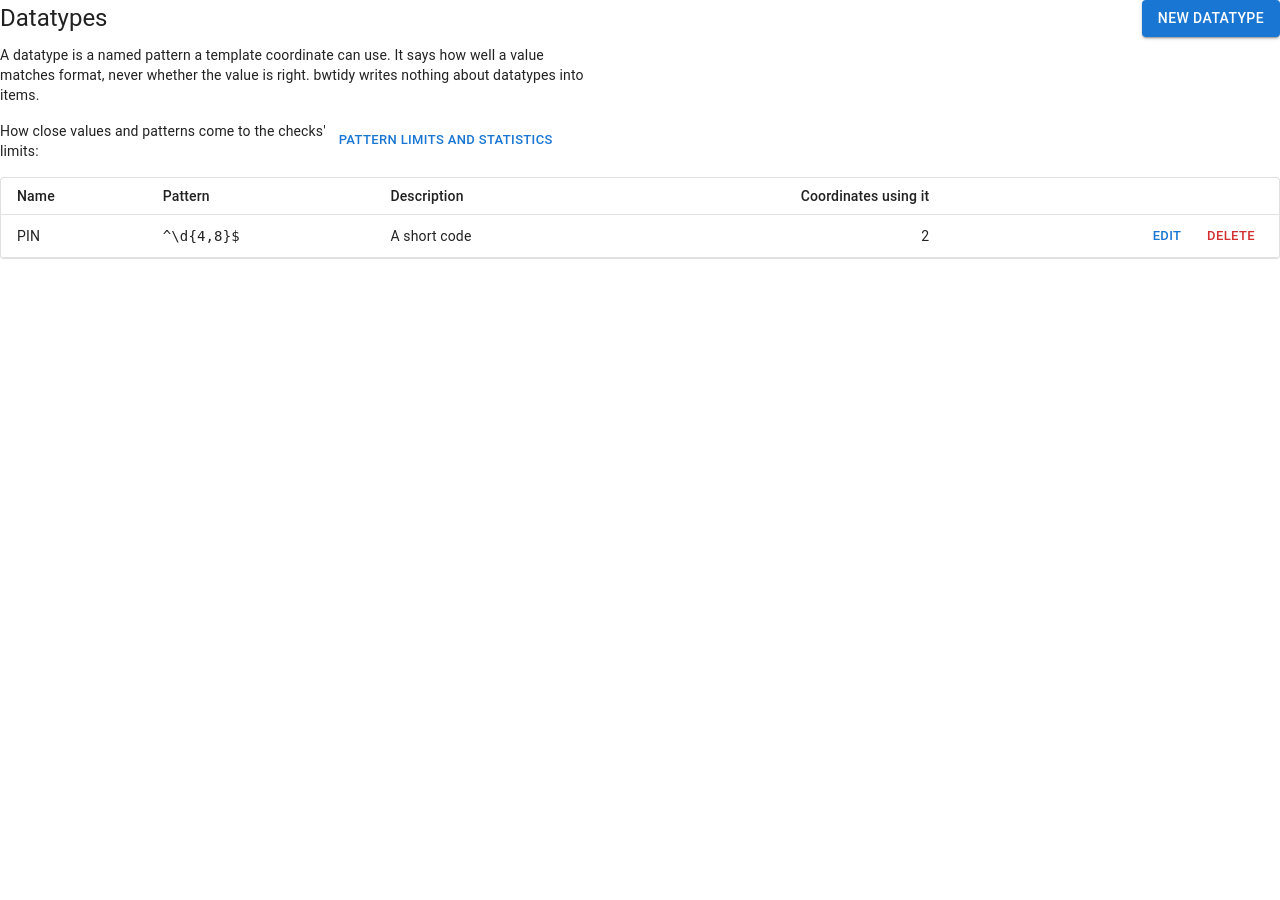
Test: a pattern stored as ^x$ opens as x with Whole value ticked
This screenshot has width=1280, height=900.
Click the button with aria-label "Edit PIN" at (1167, 236), box top-left (1135, 221), bottom-right (1199, 251)
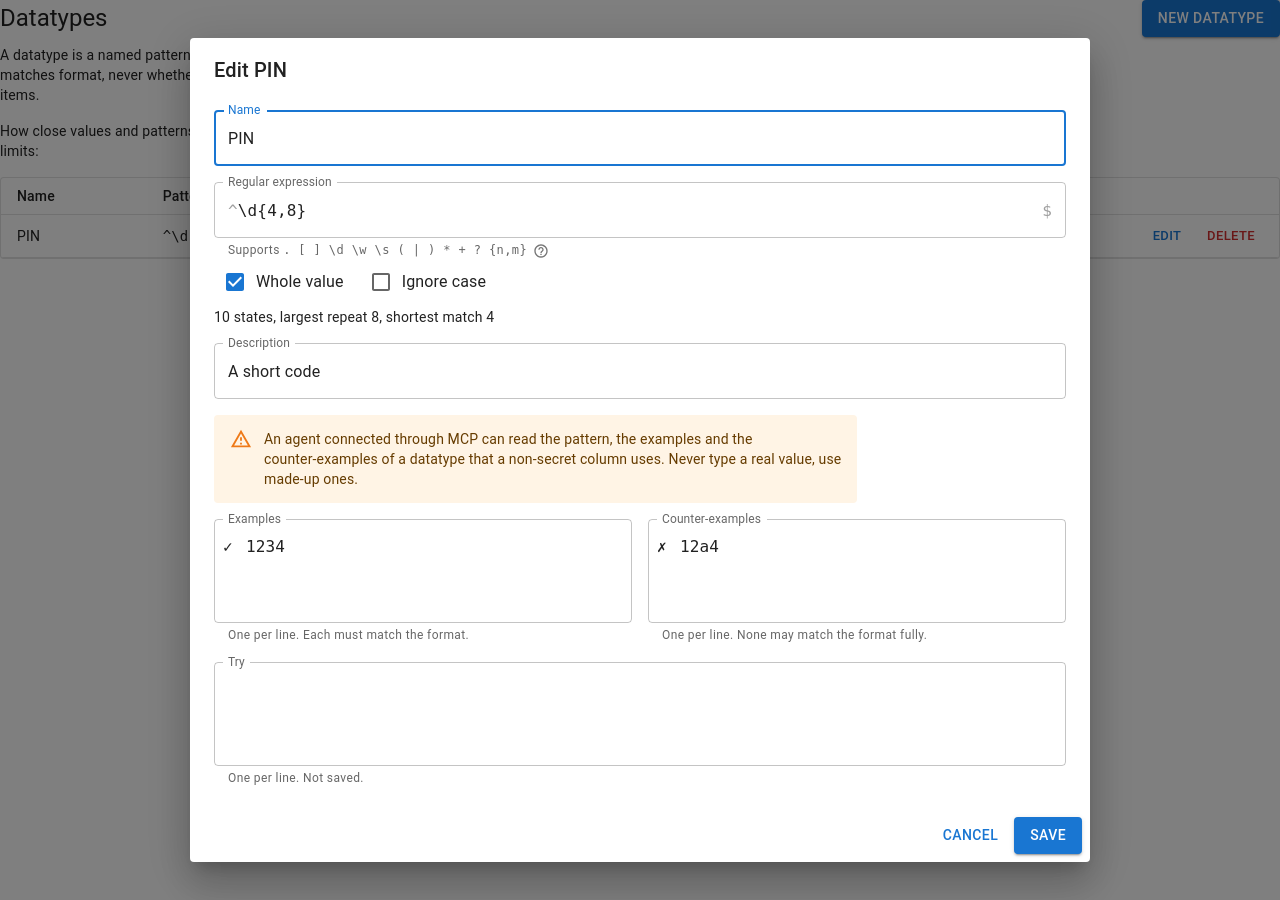
Expected: the field labelled "Regular expression" holds "\\d{4,8}", top-left (238, 182), bottom-right (1042, 238)
Expected: the checkbox labelled "Whole value" is checked, top-left (223, 270), bottom-right (344, 294)
